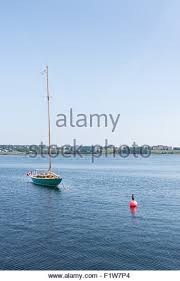buoy: (128, 200, 140, 209)
